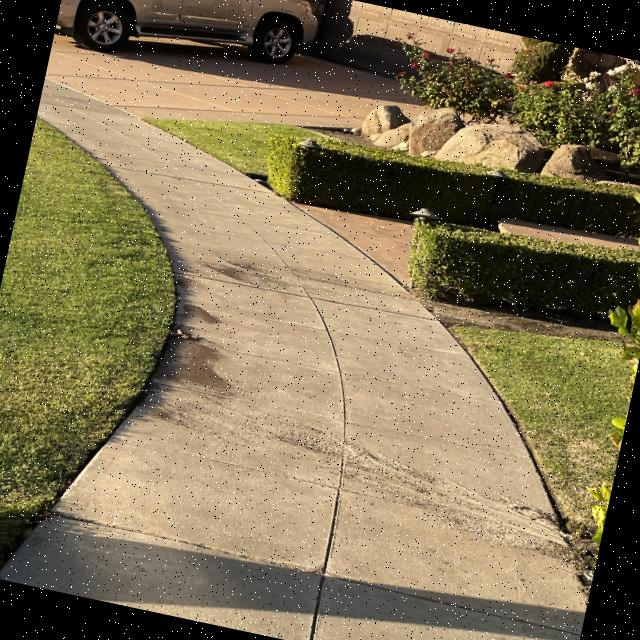walkway: (58, 468, 580, 640), (120, 406, 550, 594), (156, 334, 509, 470), (173, 269, 438, 382), (162, 212, 364, 302), (114, 159, 281, 231), (71, 116, 213, 174), (40, 85, 157, 153)
